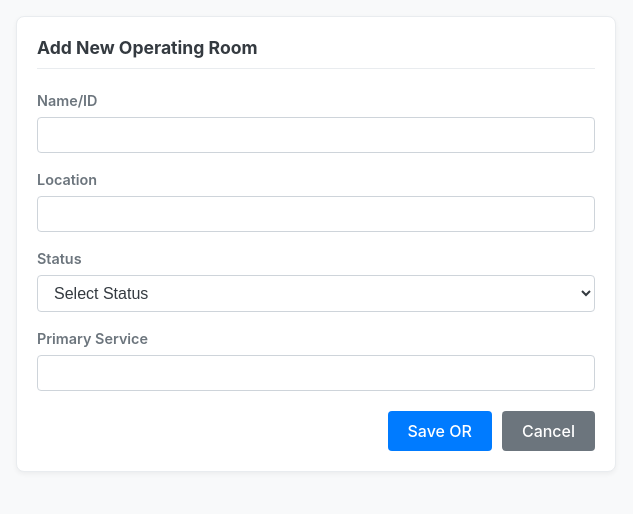
Test: AddOrForm › resets form and clears errors on cancel
// Put some data in the form and trigger validation to show errors
In the field with id "or-name": coordinates (316, 135) 37,117 -> 595,153, type "Some OR Data"
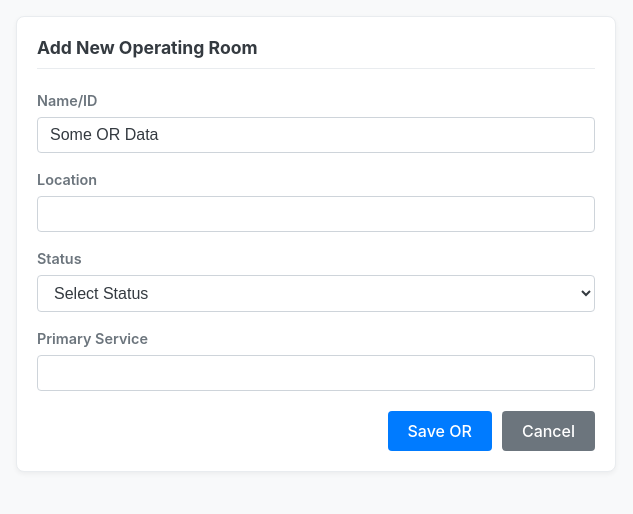
Submit the form
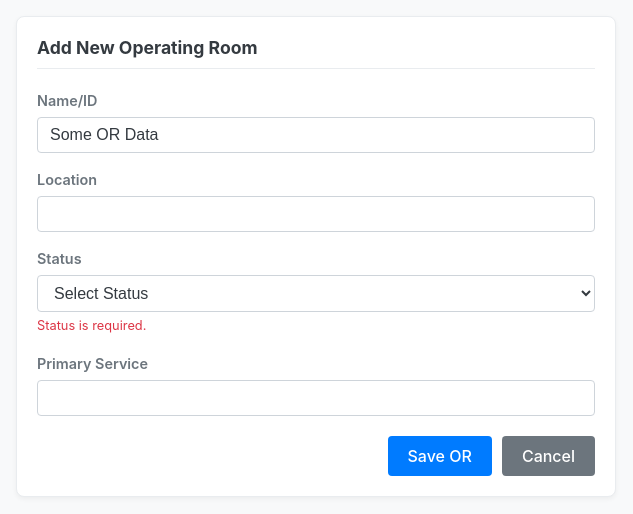
Check: the text "Status is required." is shown, box 37,318 -> 146,333
// Click cancel
Click the button "Cancel": coordinates (548, 456) 502,436 -> 595,476
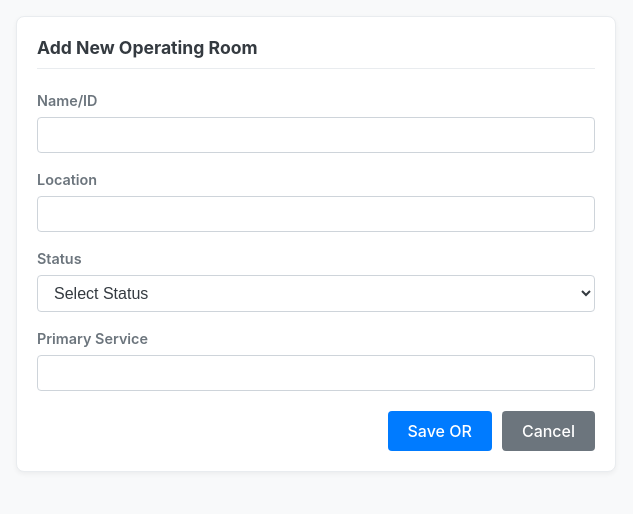
Check: the field with id "or-name" is empty, box 37,117 -> 595,153
